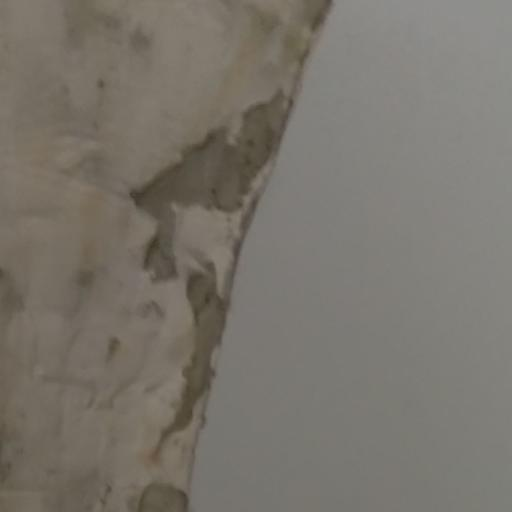spalling: (99, 43, 304, 512)
